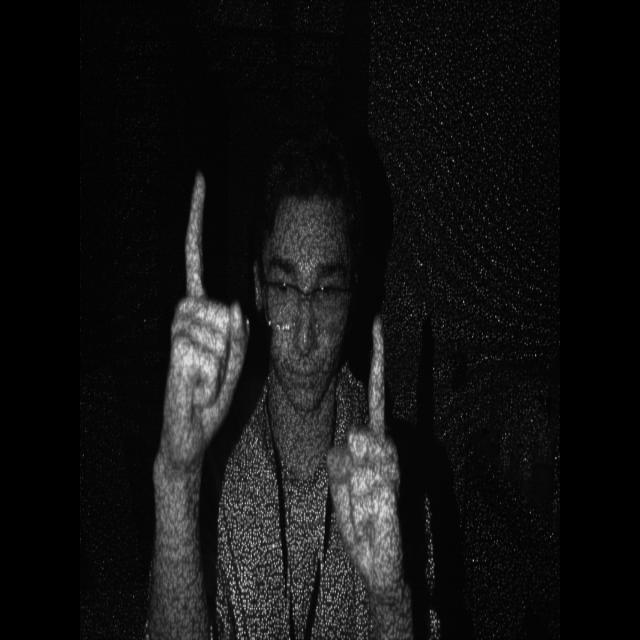STARS: (153, 162, 257, 466), (321, 304, 409, 589)
